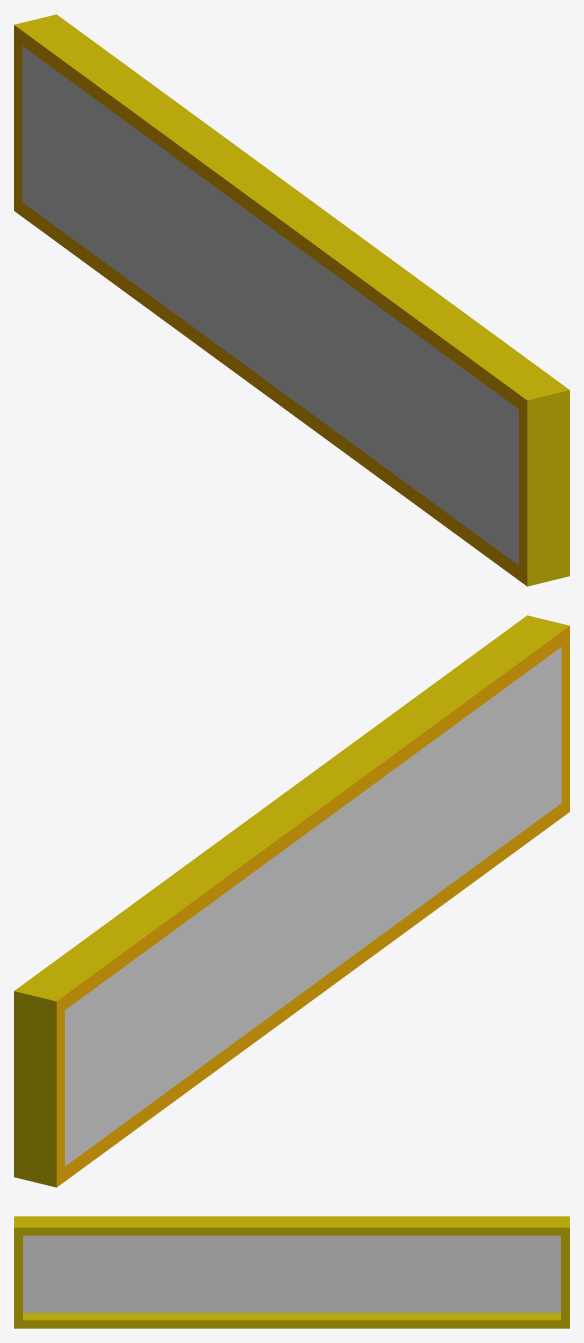
The model's file is window_5x1.dae.
The picture shows the model from 3 angles, top to bottom: view 1: azimuth 30°, elevation 25°; view 2: azimuth 150°, elevation 25°; view 3: azimuth 270°, elevation 25°; orthographic projection. The views are drawn at different scales.
Parts seen in each view (by area): view 1: Cube; view 2: Cube; view 3: Cube.
Boxes of the visible parts, x1,y1,x2,y2 form: Cube: [14, 14, 569, 586]; Cube: [14, 615, 569, 1187]; Cube: [14, 1216, 569, 1328].
Bounding box in the file's own units: 0.06 × 1.25 × 0.25.
